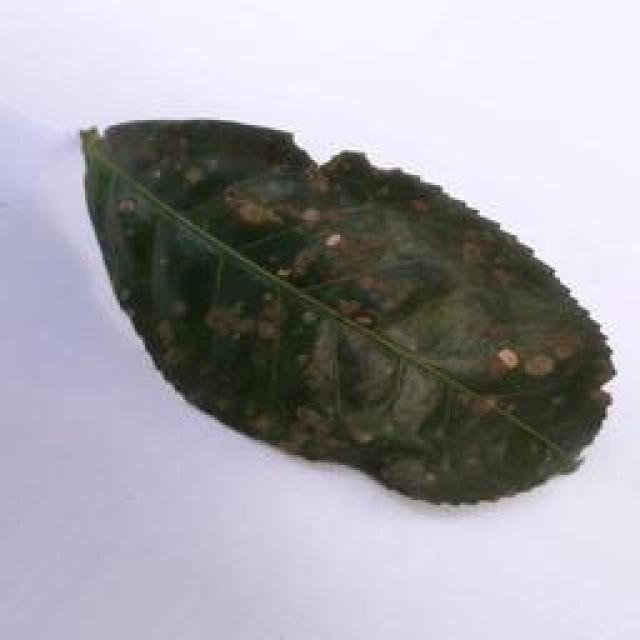Algal Leaf Spot: (86, 88, 606, 520)
